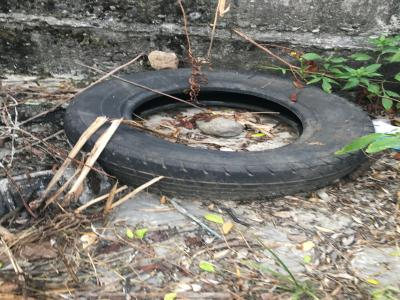tire: (61, 66, 380, 198)
